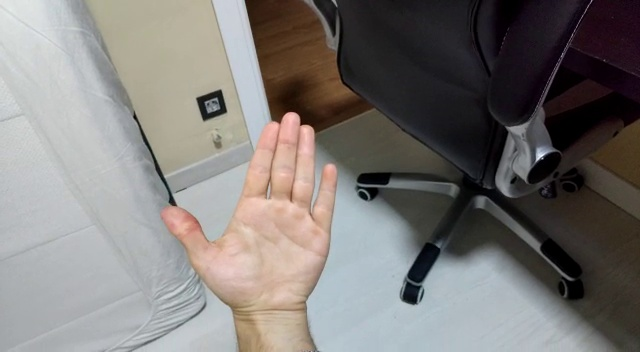Palm: (159, 110, 342, 322)
